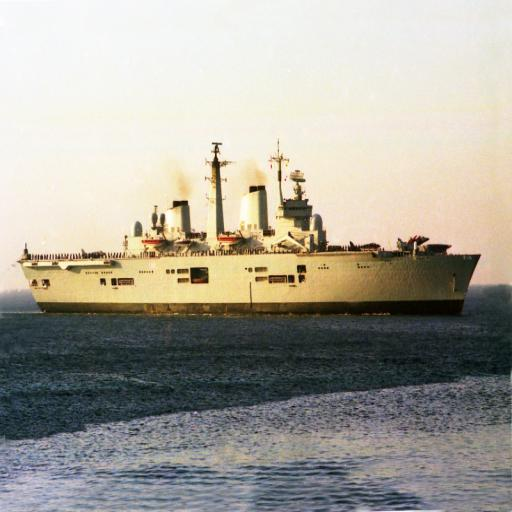Portanaves: (13, 125, 487, 323)
